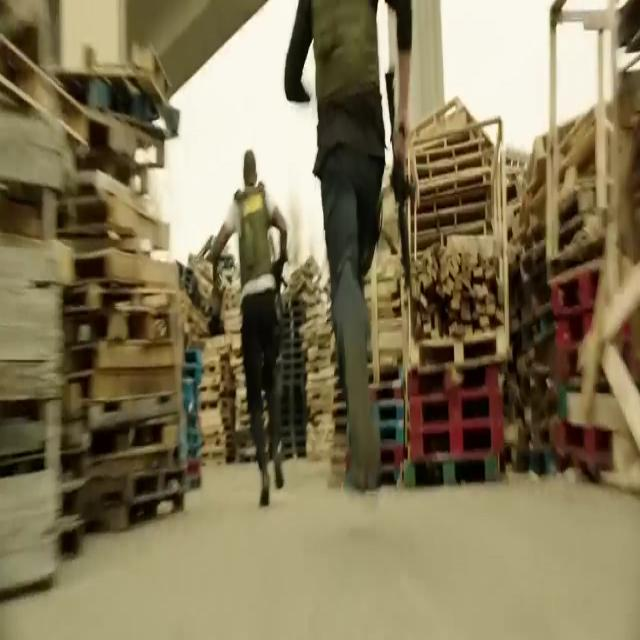Weapon: (379, 63, 419, 320), (258, 228, 316, 342)
